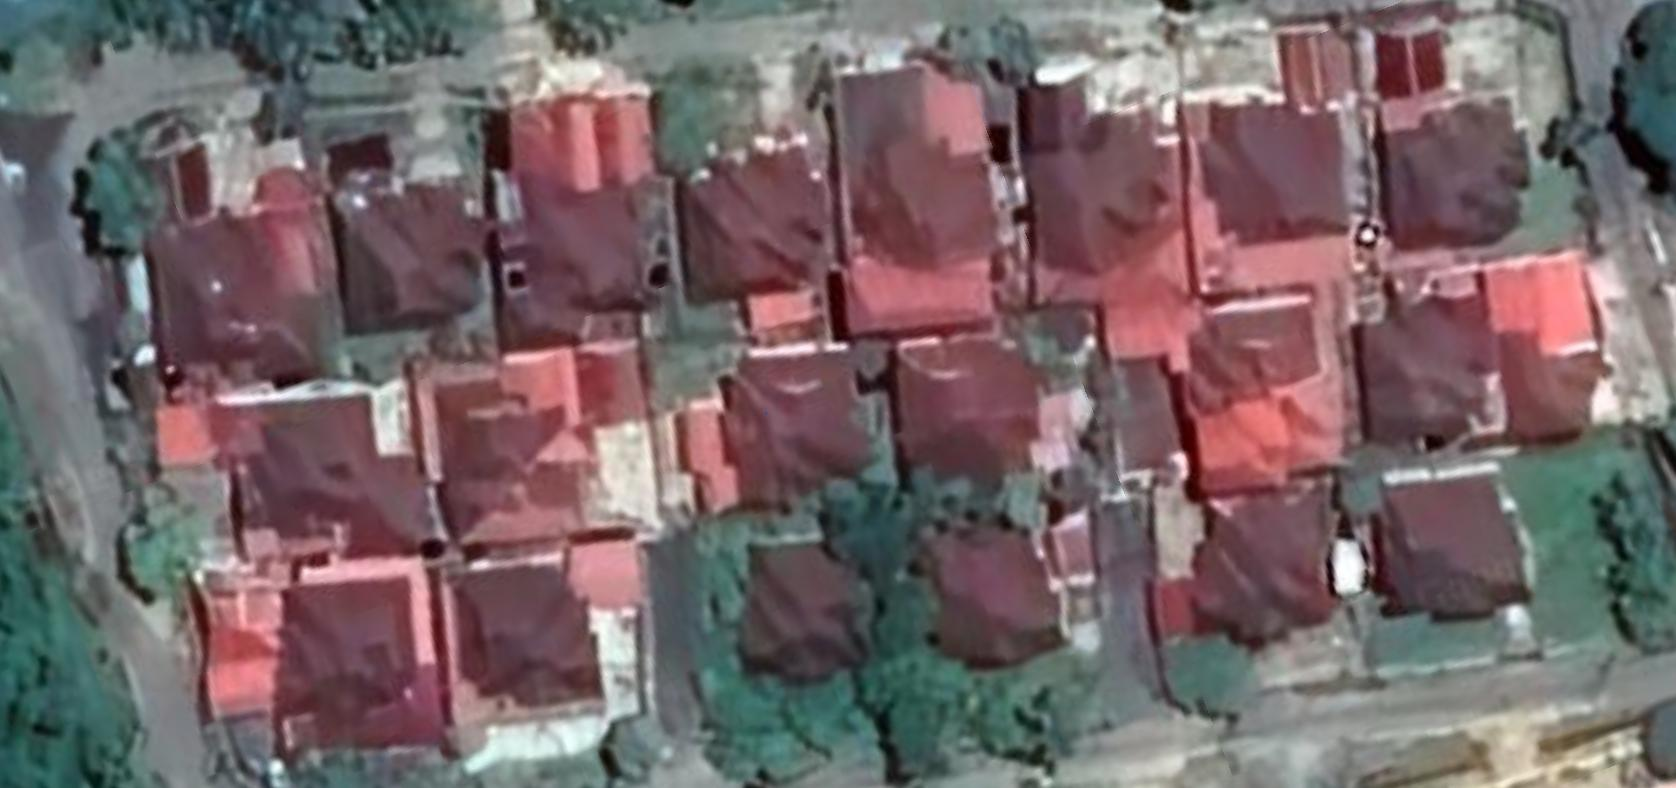building: (1341, 250, 1614, 459), (408, 321, 654, 550), (130, 175, 342, 410), (661, 328, 885, 526), (900, 489, 1117, 693), (1153, 288, 1354, 508), (221, 377, 444, 559), (1347, 454, 1558, 639), (668, 119, 854, 325), (1008, 63, 1177, 287), (1167, 479, 1359, 667), (246, 555, 433, 741), (1366, 78, 1553, 263), (837, 111, 1030, 284), (882, 314, 1058, 504), (1185, 82, 1363, 261), (433, 555, 618, 722), (330, 166, 502, 344), (495, 156, 665, 333), (717, 526, 884, 698)
